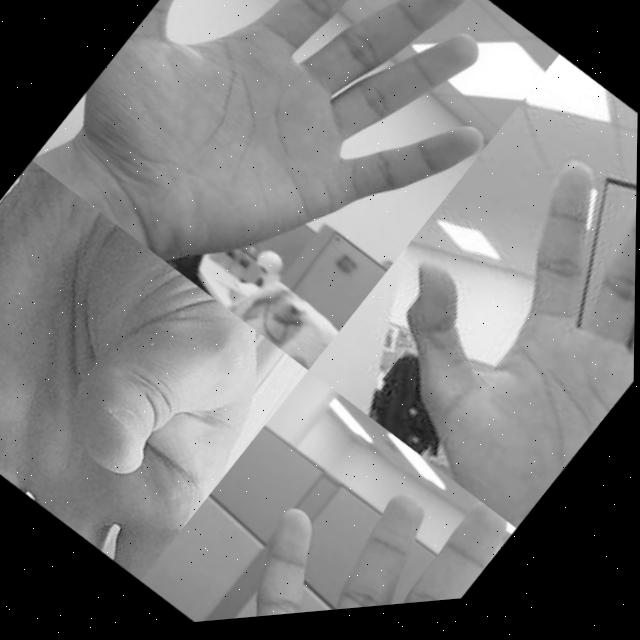hand: (44, 0, 558, 376), (323, 94, 638, 551), (0, 141, 311, 594), (189, 401, 519, 626)
